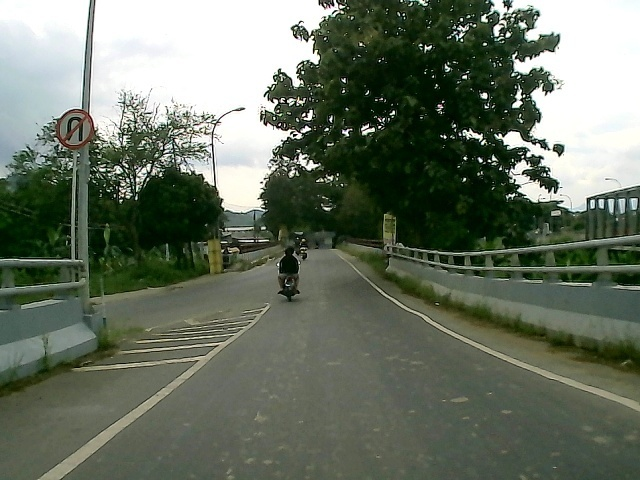Dilarang berbalik arah: (54, 108, 96, 151)
